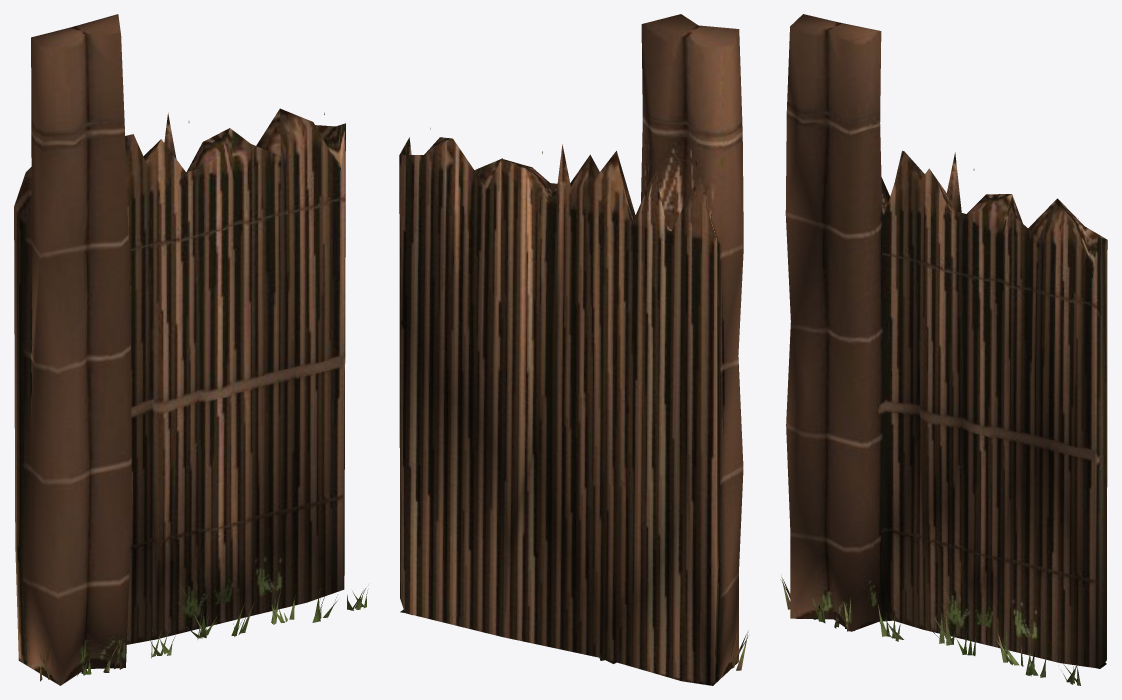
Rendered from fence_reed_end_w_pair_far.glb.
3 renders of one model, left to right at view 1: azimuth 30°, elevation 25°; view 2: azimuth 150°, elevation 25°; view 3: azimuth 330°, elevation 25°, orthographic. The views are drawn at different scales.
Parts seen in each view (by area): view 1: fence_reed_end_w_pair_lod1; view 2: fence_reed_end_w_pair_lod1; view 3: fence_reed_end_w_pair_lod1.
Boxes of the visible parts, left/top/right/bottom form: fence_reed_end_w_pair_lod1: left=14, top=14, right=367, bottom=685; fence_reed_end_w_pair_lod1: left=399, top=14, right=748, bottom=685; fence_reed_end_w_pair_lod1: left=780, top=14, right=1107, bottom=685.
Size of the model in its own units: 1.01 by 1.87 by 0.2026.
Materials: 1 (1 with a texture image).
